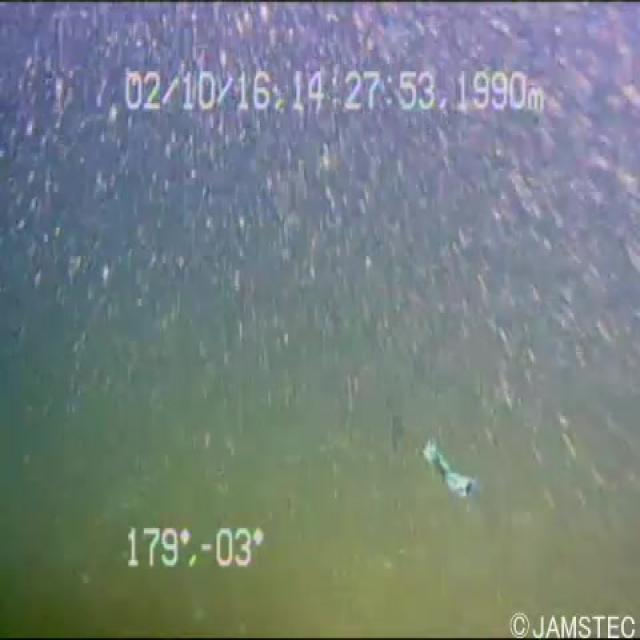plastic: (406, 416, 482, 507)
